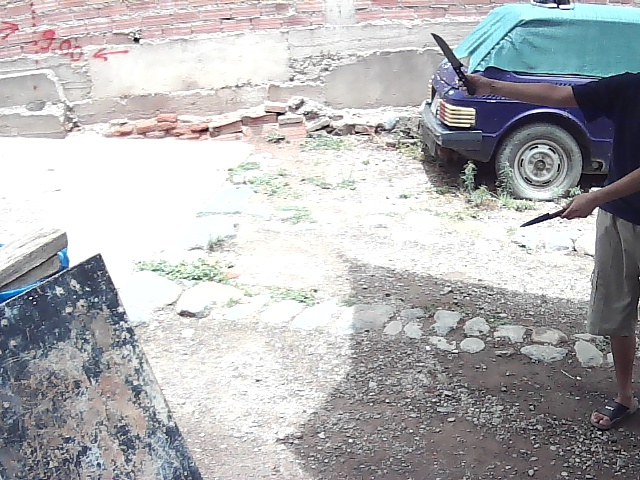cuchillo: (425, 28, 481, 98)
